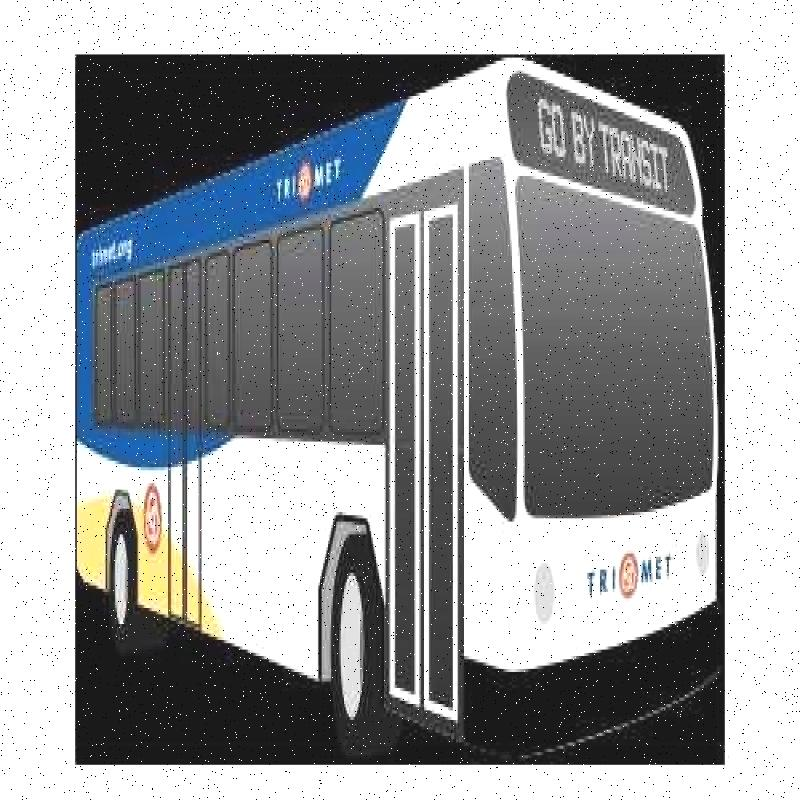bus: (74, 64, 717, 744)
